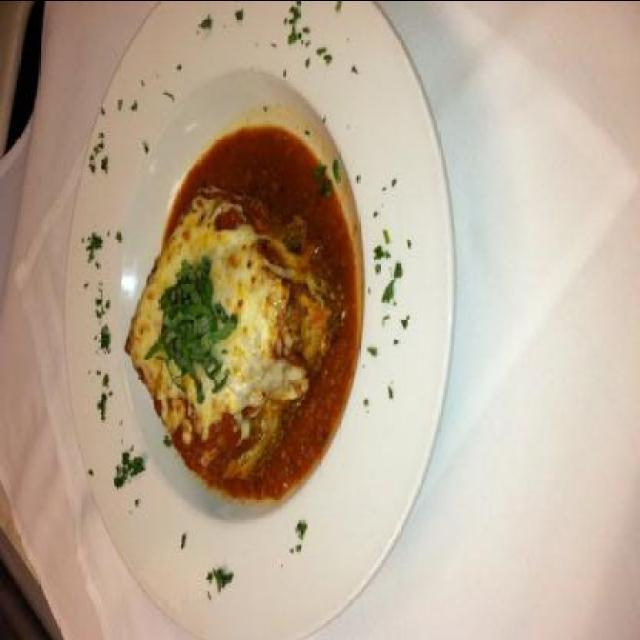Lasagna: (118, 156, 340, 496)
